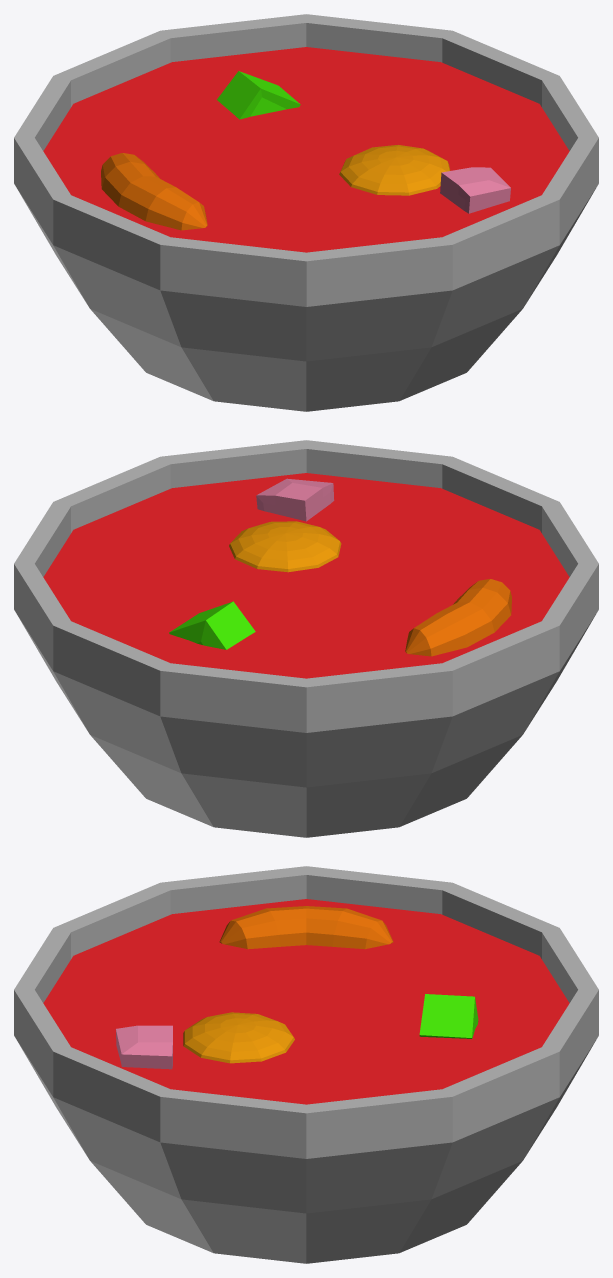
File: zupa2.fbx
3 renders of one model, top to bottom at view 1: azimuth 30°, elevation 25°; view 2: azimuth 150°, elevation 25°; view 3: azimuth 270°, elevation 25°, orthographic.
Visible parts, largest first — view 1: Cylinder, Cylinder.001, Sphere, Cube, Cube.001; view 2: Cylinder, Cylinder.001, Sphere, Cube, Cube.001; view 3: Cylinder, Cylinder.001, Sphere, Cube.001, Cube.
Part boxes in pixels (x1,y1,x2,y2): Cylinder: (14, 14, 598, 411); Cylinder.001: (101, 153, 207, 230); Sphere: (339, 145, 450, 195); Cube: (440, 167, 510, 213); Cube.001: (217, 71, 300, 119); Cylinder: (14, 440, 598, 837); Cylinder.001: (405, 579, 511, 656); Sphere: (229, 521, 341, 572); Cube: (256, 478, 334, 521); Cube.001: (169, 601, 255, 649); Cylinder: (14, 866, 598, 1263); Cylinder.001: (219, 906, 393, 949); Sphere: (183, 1012, 294, 1063); Cube.001: (419, 994, 478, 1038); Cube: (115, 1025, 172, 1069).
Bounding box in the file's own units: 10 × 4.05 × 10.
